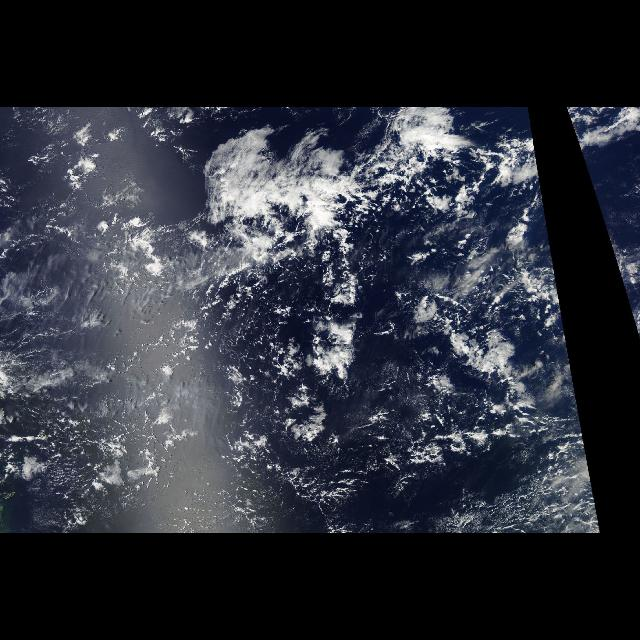Fish: (195, 144, 525, 270)
Flower: (29, 296, 565, 496)
